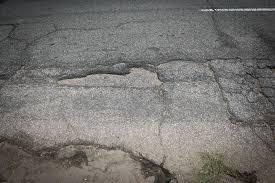alligator-crack: (204, 52, 275, 152)
crack: (0, 20, 114, 48), (154, 104, 171, 183), (203, 0, 223, 41)
pothole: (53, 59, 168, 92)
